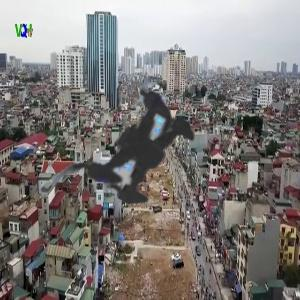drone: (12, 11, 284, 283)
